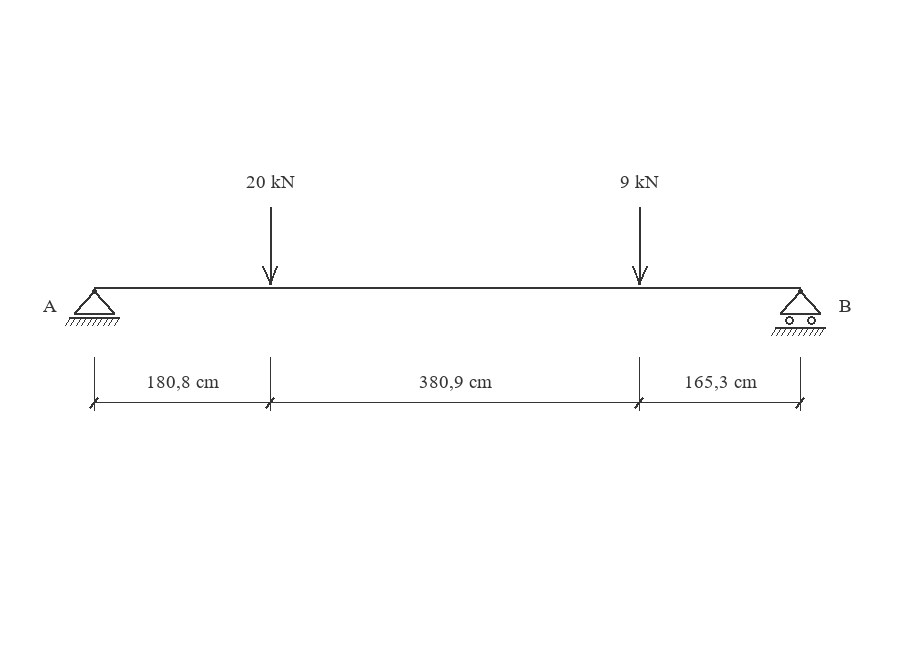pin_support: (65, 289, 120, 326)
point_load: (262, 207, 278, 285), (632, 207, 648, 285)
roller_support: (771, 289, 826, 336)
